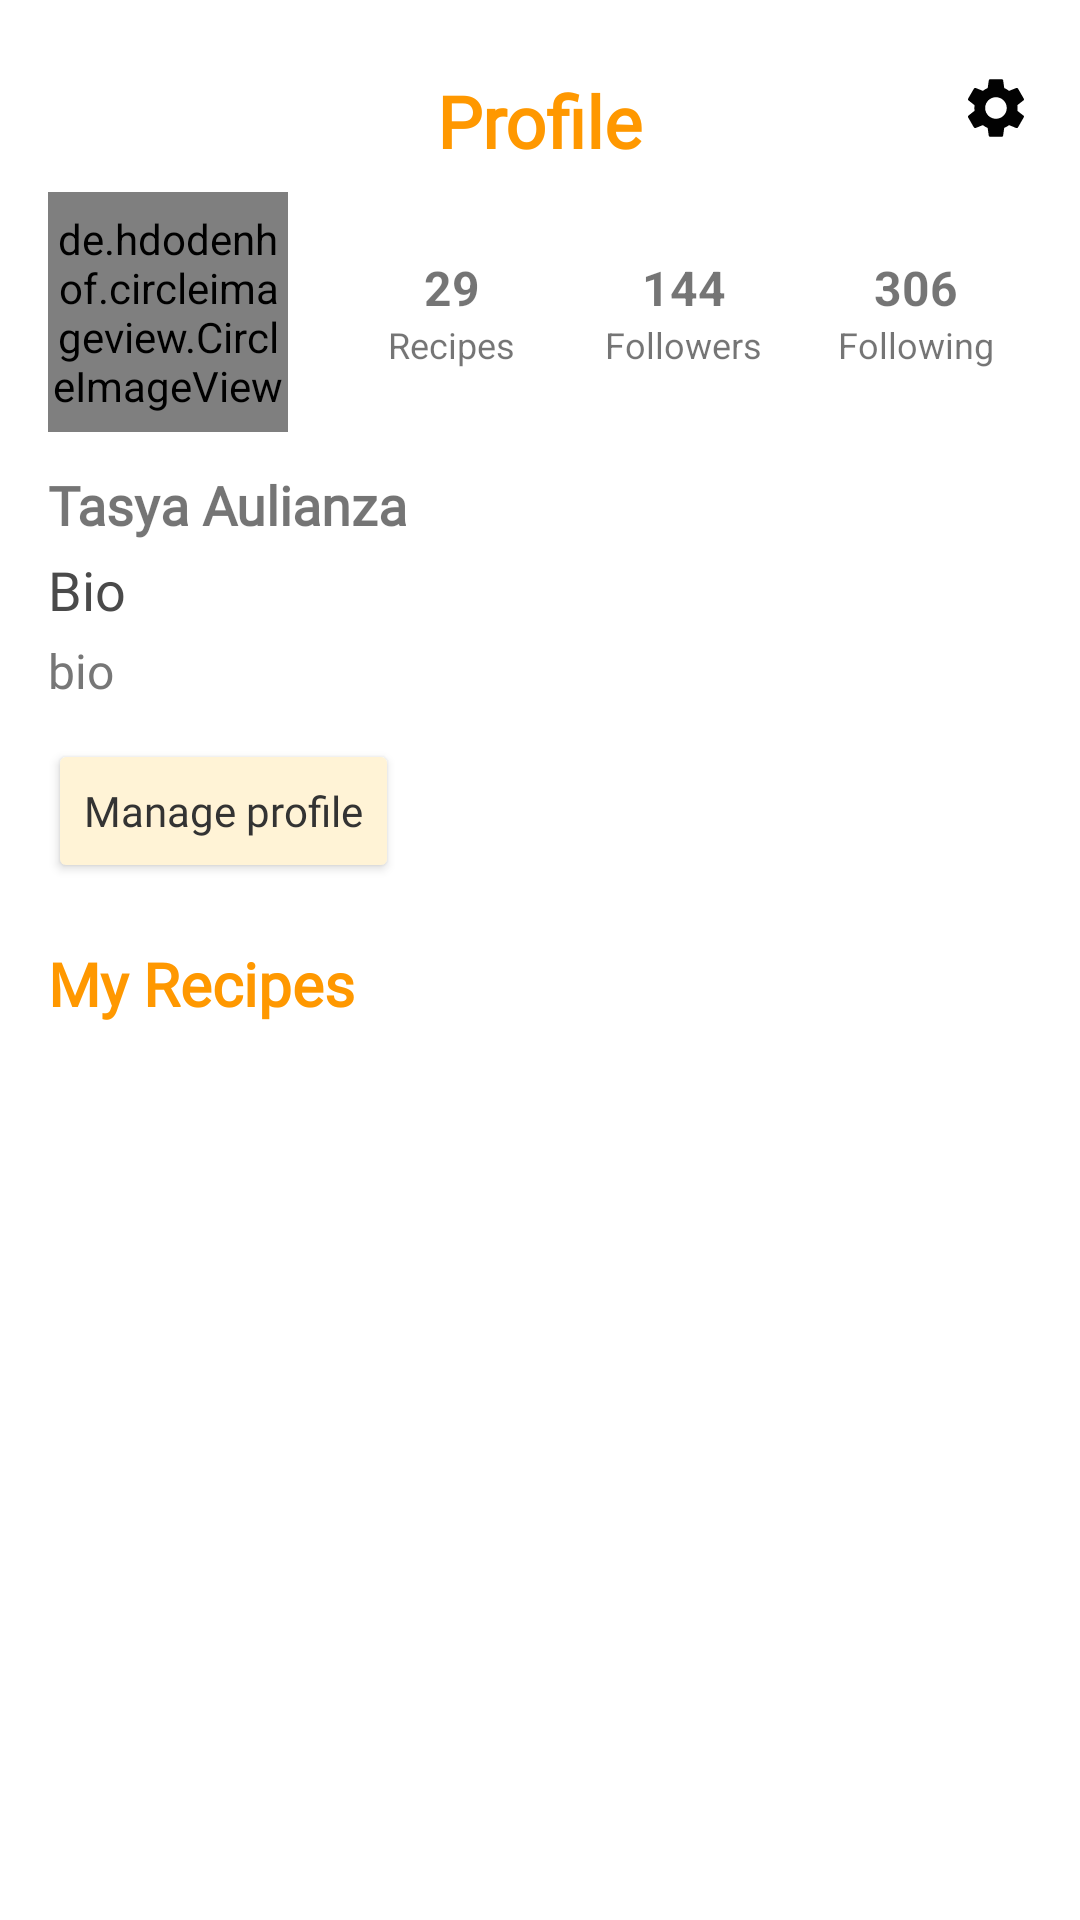

Icon click points for this 1080*1920 phone screenshot, format (x,y):
settings: (996,108)
